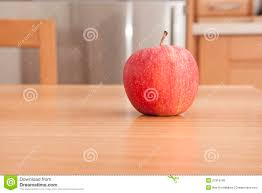apple: (124, 42, 200, 119)
